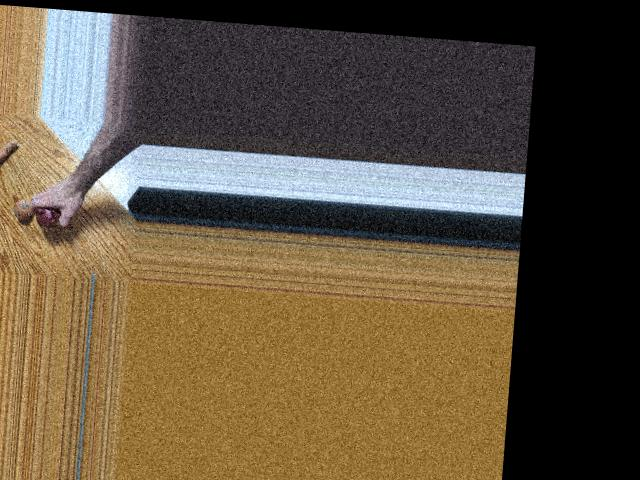onion: (12, 197, 37, 221)
